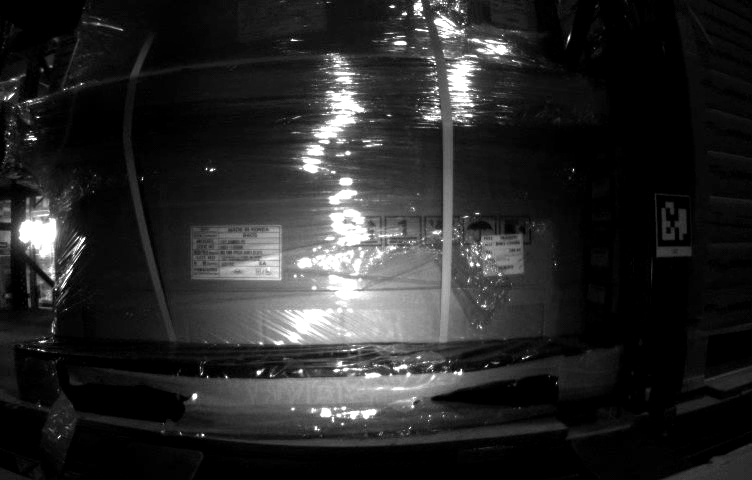True Barcode: (479, 232, 525, 275)
